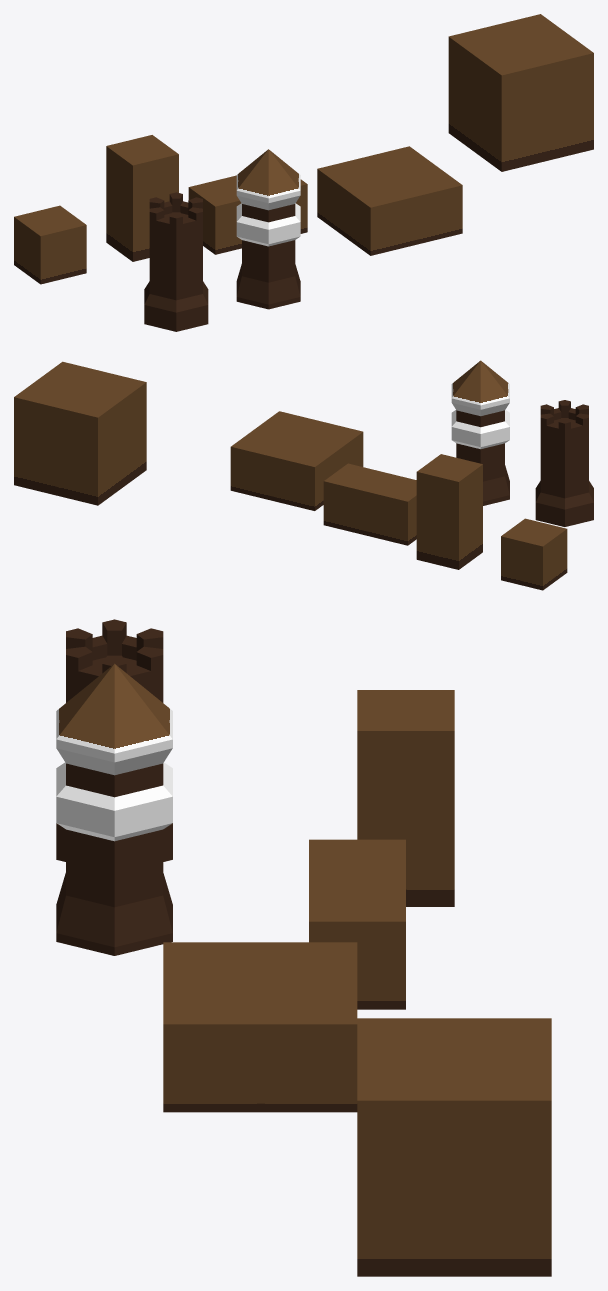
The model's file is castle-turret.obj.
The picture shows the model from 3 angles, top to bottom: view 1: azimuth 30°, elevation 25°; view 2: azimuth 150°, elevation 25°; view 3: azimuth 270°, elevation 25°; orthographic projection. The views are drawn at different scales.
Visible parts, largest first — view 1: block, hexagon_baseLarge%, hexagon_base, hexagon_overhangDetail%, hexagon_pointLarge%, hexagon, hexagon_castleBattlement; view 2: block, hexagon_baseLarge%, hexagon_overhangDetail%, hexagon_pointLarge%, hexagon, hexagon_castleBattlement, hexagon_base; view 3: block, hexagon_base, hexagon_overhangDetail%, hexagon_pointLarge%, hexagon_castleBattlement.
Part boxes in pixels (x1,y1,x2,y2): block: [14, 14, 593, 284]; hexagon_baseLarge%: [144, 274, 208, 331]; hexagon_base: [236, 252, 300, 309]; hexagon_overhangDetail%: [236, 203, 300, 258]; hexagon_pointLarge%: [236, 149, 300, 210]; hexagon: [149, 213, 202, 280]; hexagon_castleBattlement: [149, 192, 202, 232]; block: [14, 361, 567, 590]; hexagon_baseLarge%: [535, 475, 593, 526]; hexagon_overhangDetail%: [451, 410, 509, 460]; hexagon_pointLarge%: [451, 360, 509, 416]; hexagon: [540, 419, 588, 480]; hexagon_castleBattlement: [540, 400, 588, 436]; hexagon_base: [456, 454, 509, 505]; block: [163, 690, 551, 1276]; hexagon_base: [56, 851, 172, 955]; hexagon_overhangDetail%: [56, 762, 172, 863]; hexagon_pointLarge%: [56, 663, 172, 775]; hexagon_castleBattlement: [66, 619, 163, 686].
Bounding box in the file's own units: 24 × 6 × 10.2.
1 material, 1 textured.
